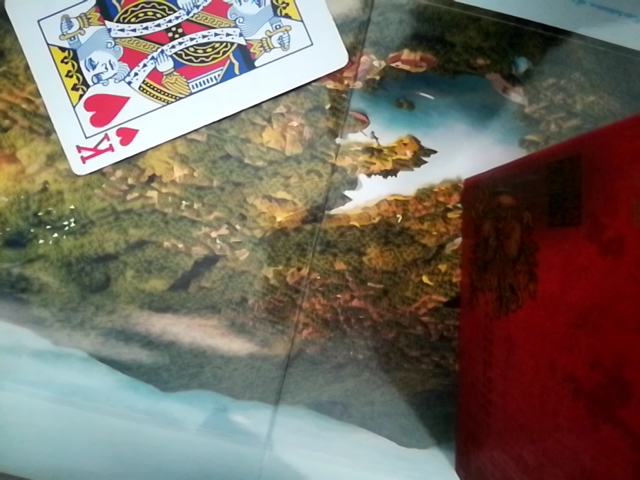hx k: (4, 0, 352, 183)
